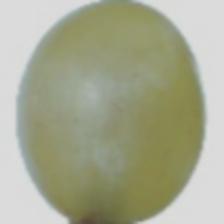grapes: (9, 23, 200, 175)
